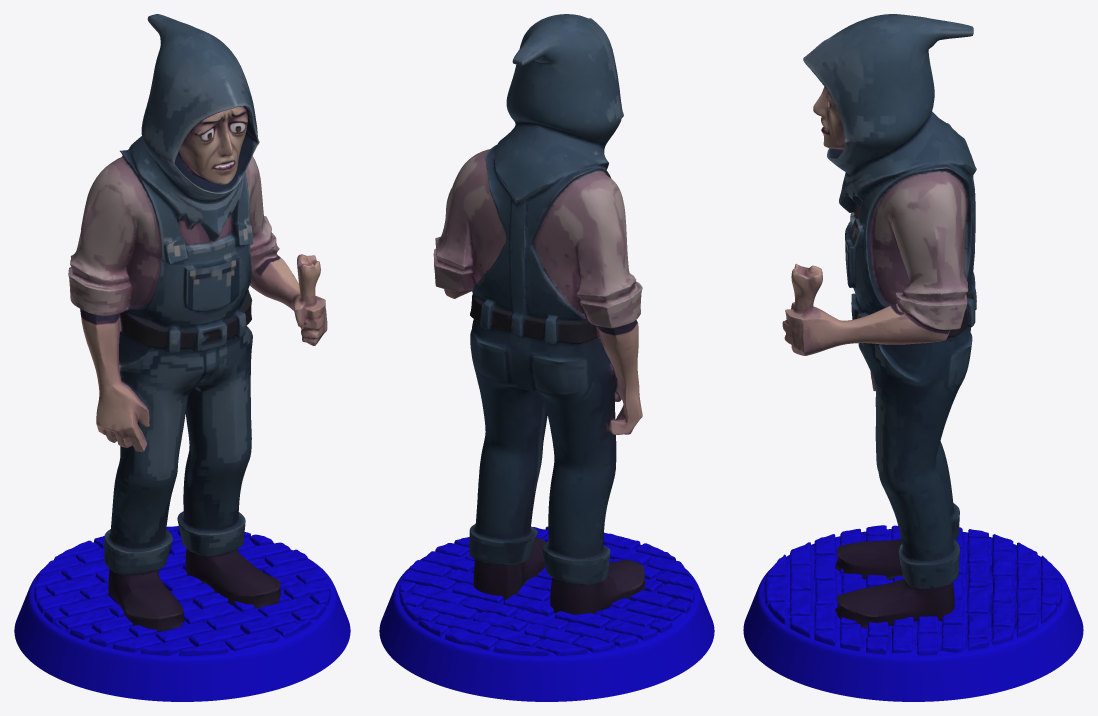
The model's file is janitor_base_apagado.glb.
3 views of the same model, side by side, from view 1: azimuth 30°, elevation 25°; view 2: azimuth 150°, elevation 25°; view 3: azimuth 270°, elevation 25° (orthographic).
Parts seen in each view (by area): view 1: mesh_node, Object_3.002; view 2: mesh_node, Object_3.002; view 3: mesh_node, Object_3.002.
Part boxes in pixels (left/top/right/bottom): mesh_node: left=68, top=14, right=327, bottom=631; Object_3.002: left=14, top=526, right=350, bottom=701; mesh_node: left=433, top=14, right=645, bottom=614; Object_3.002: left=379, top=526, right=714, bottom=701; mesh_node: left=782, top=14, right=976, bottom=627; Object_3.002: left=743, top=525, right=1083, bottom=701.
Size of the model in its own units: 0.4185 by 0.8323 by 0.4185.
2 materials, 1 textured.
